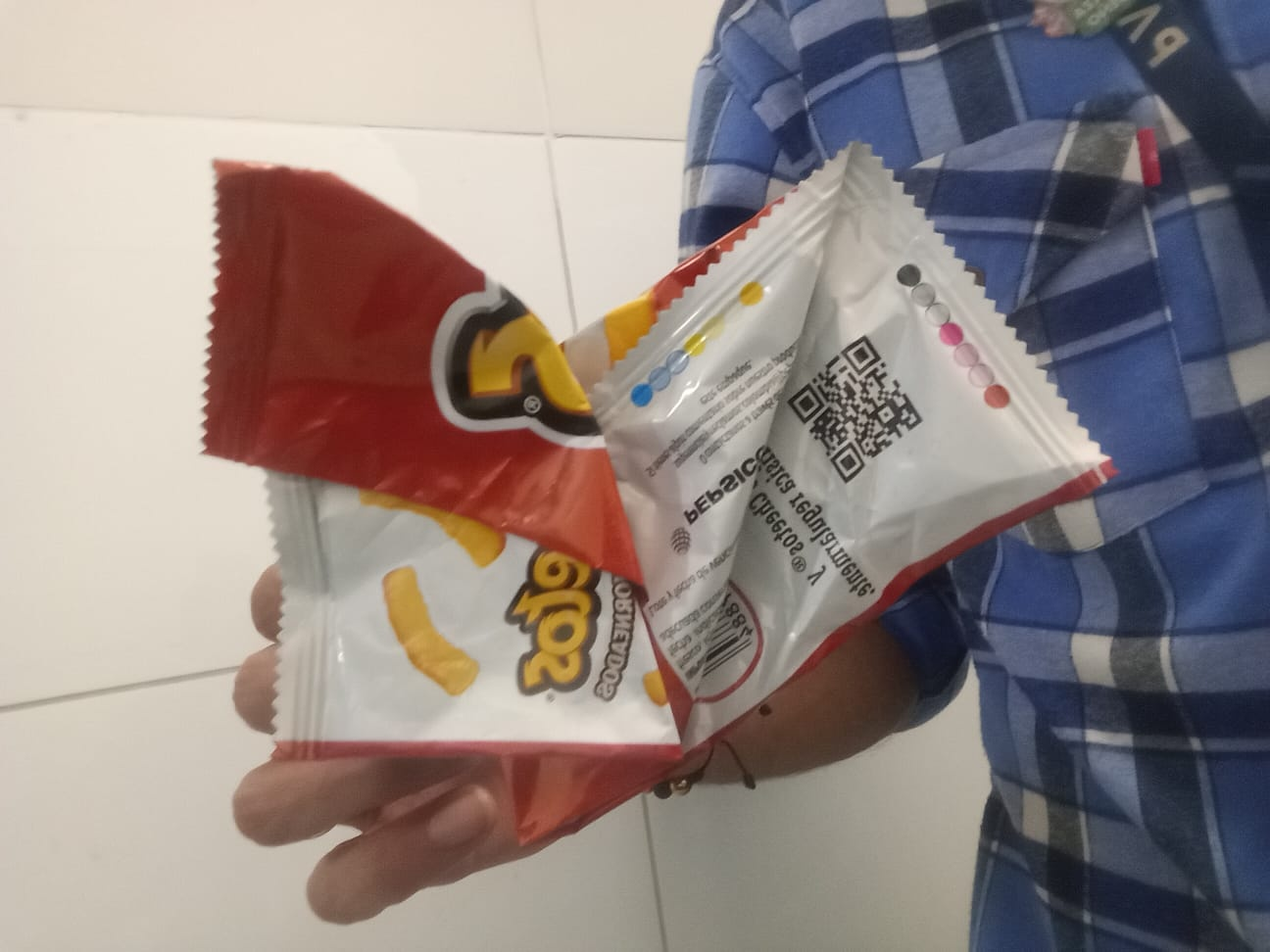Ordinario: (201, 138, 1113, 757)
